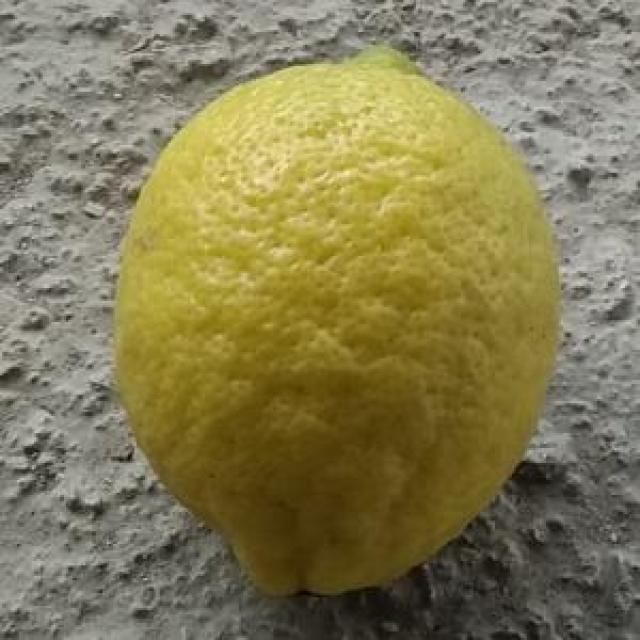lemon: (111, 42, 562, 601)
